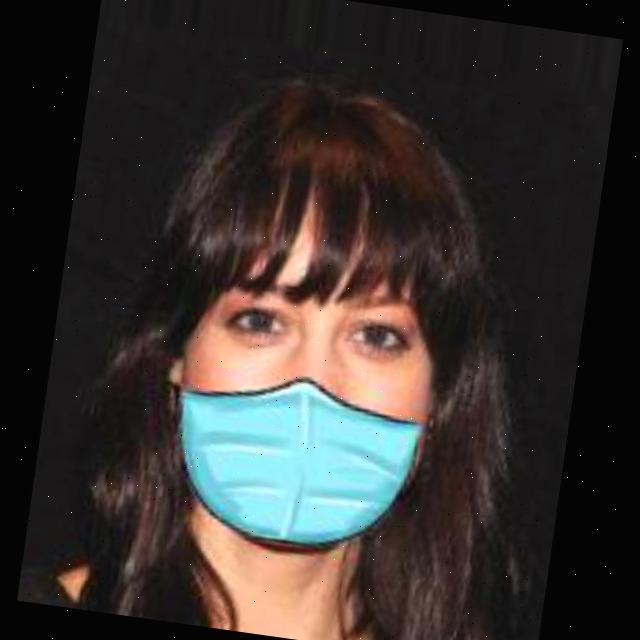suspicion: (86, 39, 563, 596)
